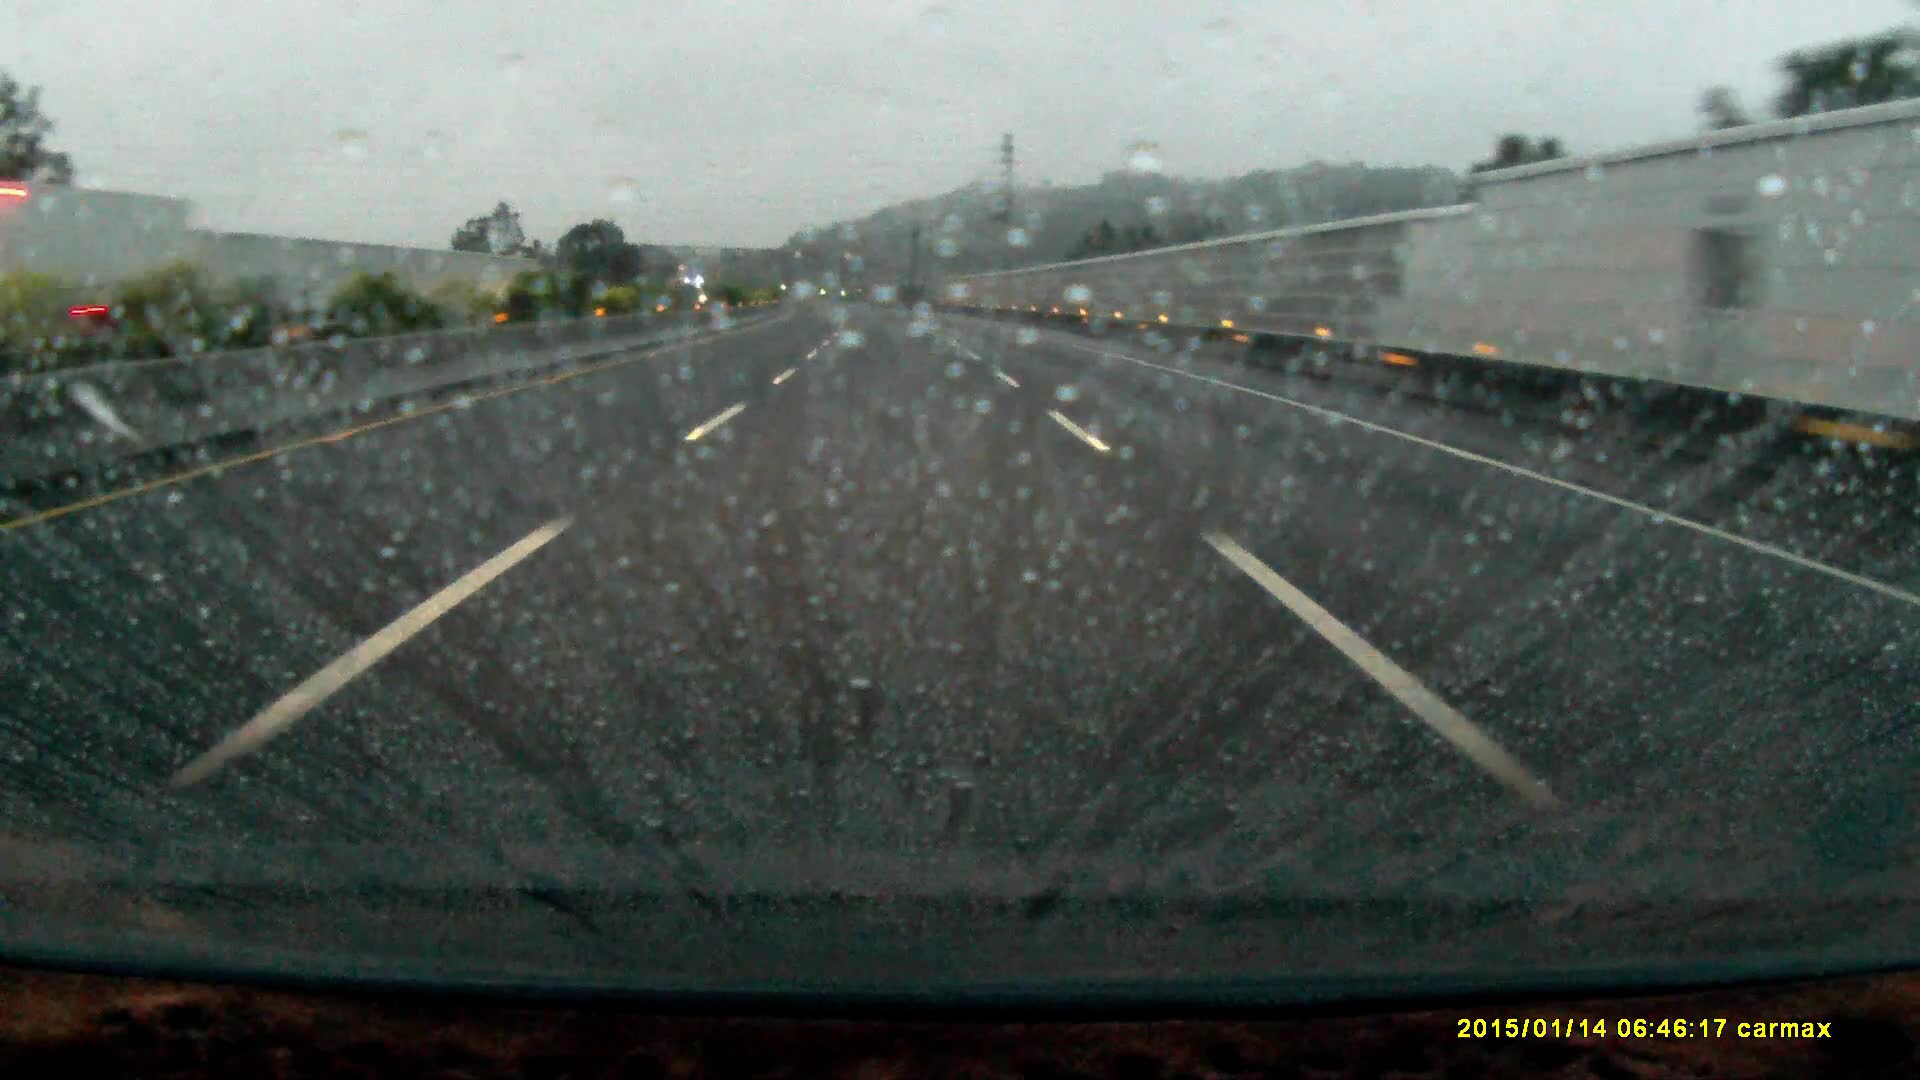vehicle: (1, 185, 218, 351)
